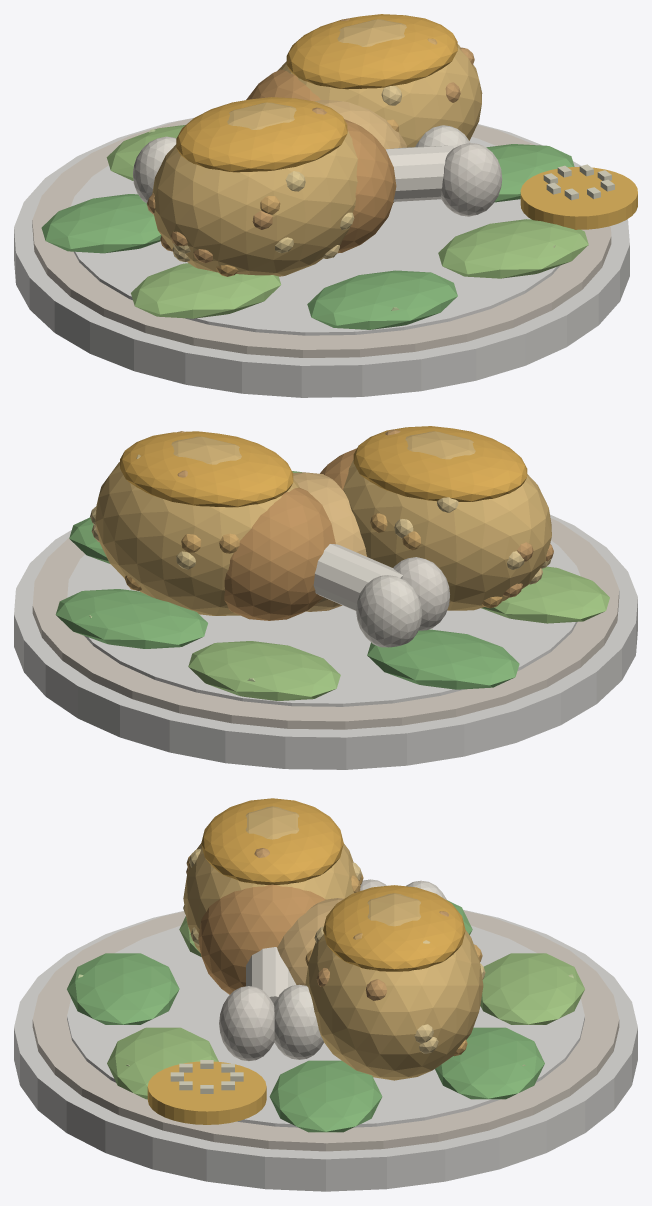
File: ga_cam.glb
3 views of the same model, one above another, from view 1: azimuth 30°, elevation 25°; view 2: azimuth 150°, elevation 25°; view 3: azimuth 270°, elevation 25° (orthographic).
Visible parts, largest first — view 1: obj_0000, obj_0002, obj_0017, obj_0001, obj_0079, obj_0045, obj_0051, obj_0007, obj_0005, obj_0009, obj_0011, obj_0086 (+9 smaller); view 2: obj_0000, obj_0001, obj_0002, obj_0017, obj_0051, obj_0052, obj_0079, obj_0045, obj_0013, obj_0015, obj_0011, obj_0009 (+6 smaller); view 3: obj_0000, obj_0001, obj_0002, obj_0051, obj_0079, obj_0045, obj_0018, obj_0007, obj_0003, obj_0013, obj_0015, obj_0086 (+6 smaller).
Boxes of the visible parts, bbox=[...] form: obj_0000: bbox=[14, 117, 629, 397]; obj_0002: bbox=[70, 137, 560, 335]; obj_0017: bbox=[152, 102, 357, 276]; obj_0001: bbox=[32, 118, 611, 357]; obj_0079: bbox=[286, 14, 457, 89]; obj_0045: bbox=[176, 97, 347, 172]; obj_0051: bbox=[277, 19, 482, 147]; obj_0007: bbox=[307, 270, 457, 329]; obj_0005: bbox=[438, 219, 588, 278]; obj_0009: bbox=[131, 263, 281, 318]; obj_0011: bbox=[41, 194, 161, 253]; obj_0086: bbox=[520, 167, 637, 229]; obj_0000: bbox=[14, 514, 637, 769]; obj_0001: bbox=[32, 518, 619, 729]; obj_0002: bbox=[67, 540, 580, 706]; obj_0017: bbox=[343, 431, 551, 610]; obj_0051: bbox=[95, 436, 299, 615]; obj_0052: bbox=[224, 487, 335, 620]; obj_0079: bbox=[120, 431, 293, 507]; obj_0045: bbox=[353, 426, 527, 501]; obj_0013: bbox=[188, 641, 340, 700]; obj_0015: bbox=[55, 589, 207, 648]; obj_0011: bbox=[367, 629, 519, 689]; obj_0009: bbox=[481, 566, 609, 623]; obj_0000: bbox=[14, 909, 637, 1191]; obj_0001: bbox=[32, 910, 619, 1151]; obj_0002: bbox=[67, 925, 584, 1127]; obj_0051: bbox=[305, 893, 483, 1080]; obj_0079: bbox=[323, 885, 465, 971]; obj_0045: bbox=[201, 798, 343, 884]; obj_0018: bbox=[198, 884, 325, 994]; obj_0007: bbox=[67, 953, 179, 1024]; obj_0003: bbox=[269, 1060, 382, 1132]; obj_0013: bbox=[480, 953, 584, 1024]; obj_0015: bbox=[435, 1027, 544, 1099]; obj_0086: bbox=[147, 1061, 266, 1124].
Size of the model in its own units: 2.1 by 0.74 by 2.1.
